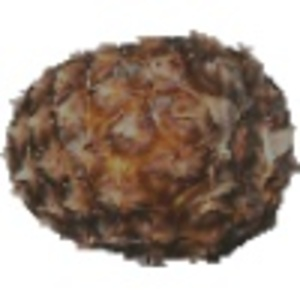abacaxi: (9, 22, 292, 249)
